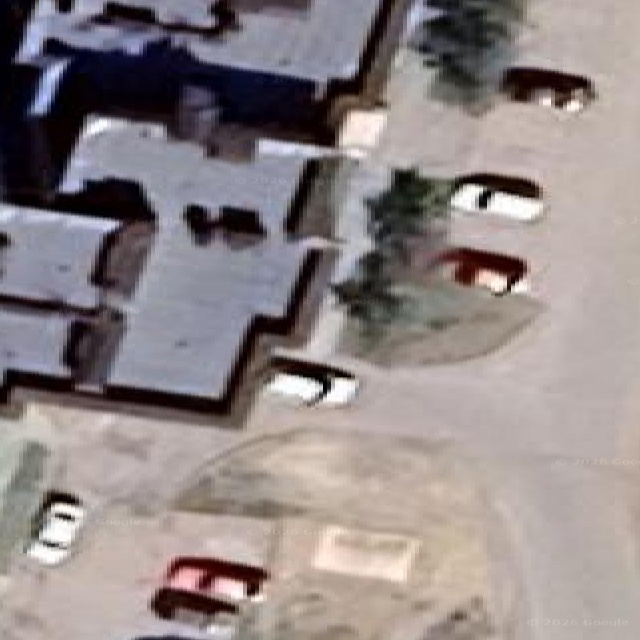car: (151, 557, 268, 629), (267, 356, 358, 406), (450, 173, 543, 221), (436, 248, 528, 294), (502, 67, 595, 112), (26, 492, 84, 564)
